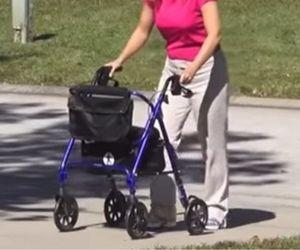walking_frame: (54, 0, 229, 239)
